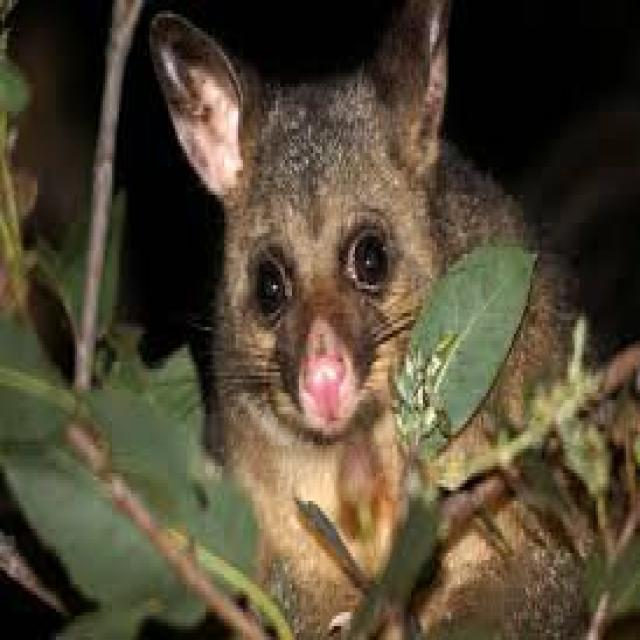Possum: (146, 4, 619, 574)
